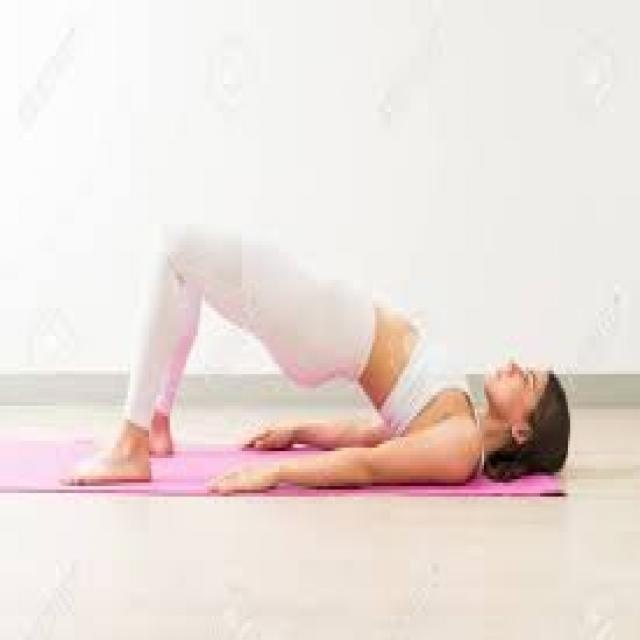Bridge_Pose: (53, 213, 576, 498)
